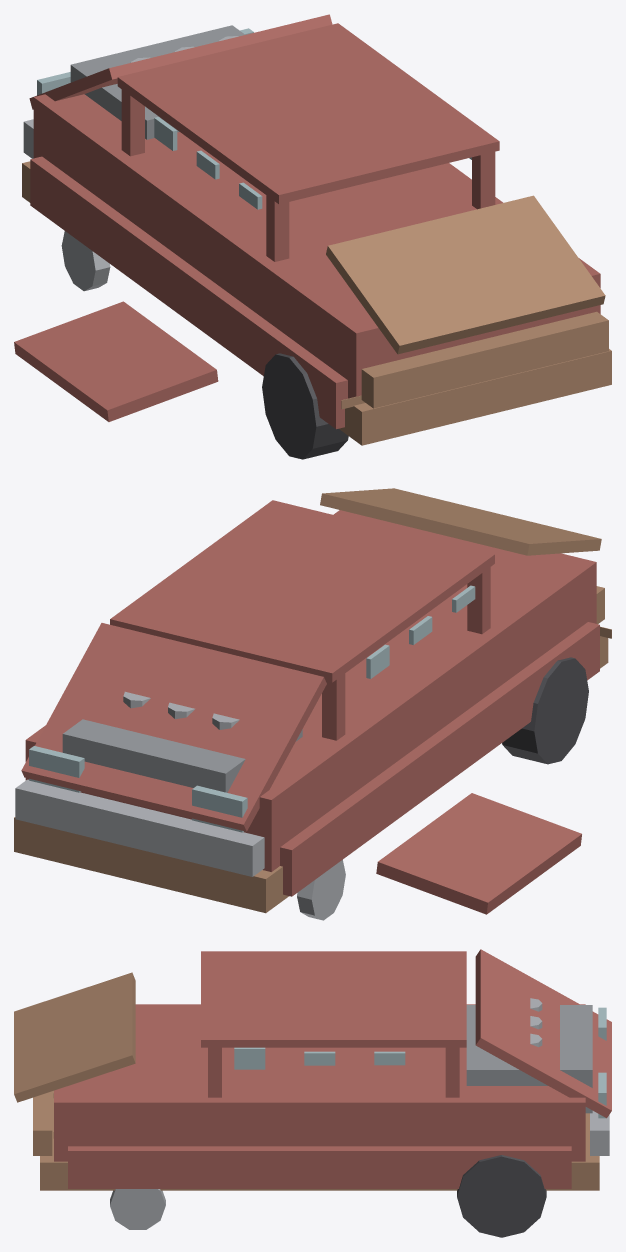
Rendered from car_wreck.glb.
3 renders of one model, top to bottom at view 1: azimuth 30°, elevation 25°; view 2: azimuth 150°, elevation 25°; view 3: azimuth 270°, elevation 25°, orthographic. The views are drawn at different scales.
Parts seen in each view (by area): view 1: car_wreck; view 2: car_wreck; view 3: car_wreck.
Part boxes in pixels (left/top/right/bottom): car_wreck: left=14, top=14, right=611, bottom=459; car_wreck: left=14, top=488, right=611, bottom=920; car_wreck: left=14, top=949, right=611, bottom=1237.
Bounding box in the file's own units: 2.57 × 1.49 × 4.27.
